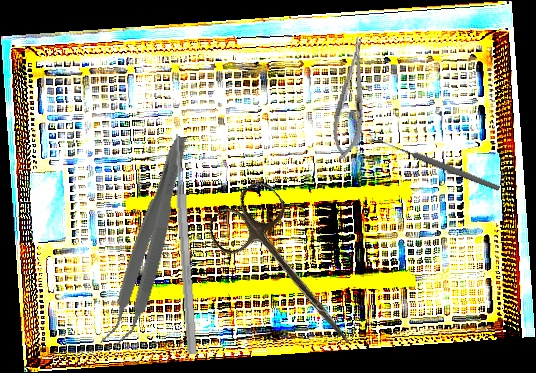Iris Scissors: (201, 175, 382, 366)
Needle Holder: (328, 34, 375, 163)
Pusher: (170, 133, 200, 355)
Surgical Spoon: (376, 135, 501, 193)
Tissue Forceps: (98, 130, 196, 353)
